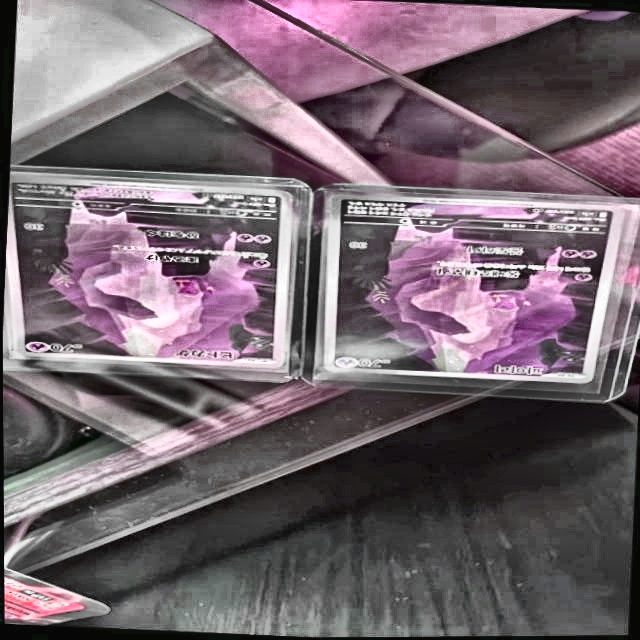card: (321, 193, 624, 384), (5, 174, 291, 368)
